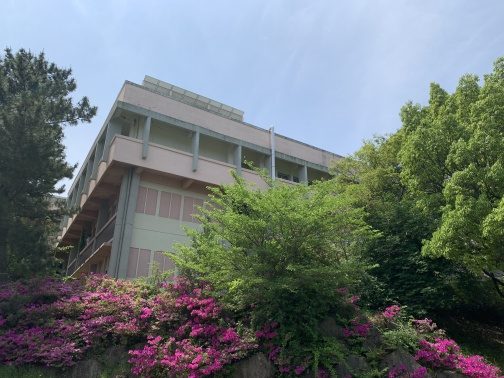College Of Education: (53, 65, 373, 283)
